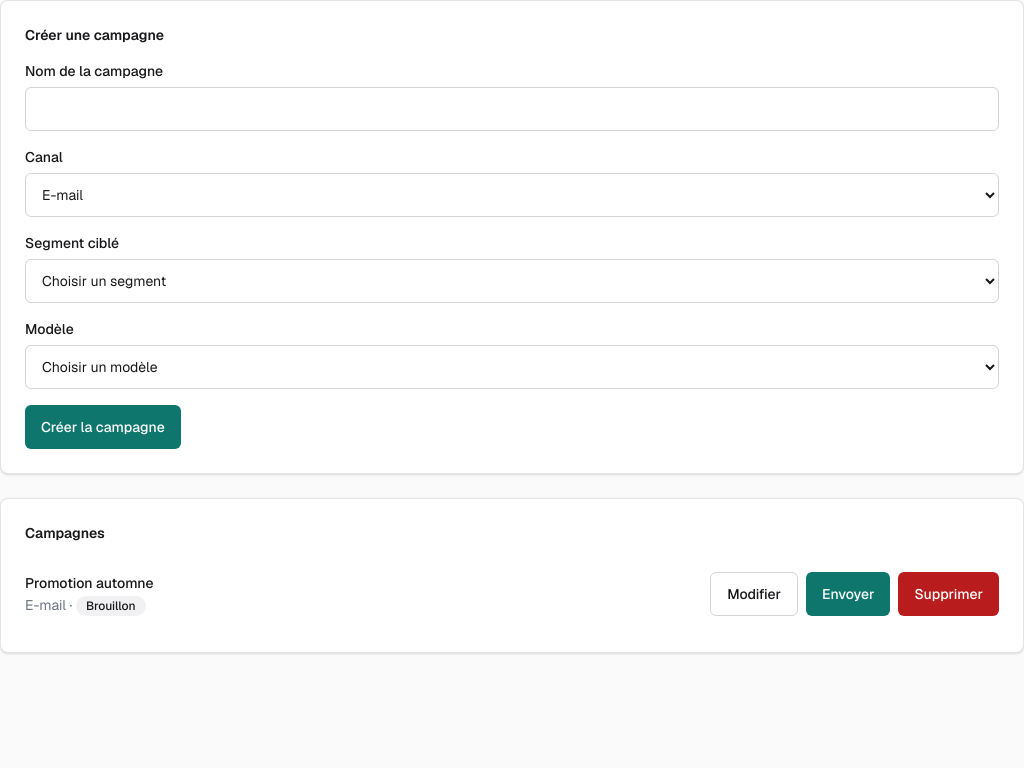
Scenario: CampaignsPage › supprime une campagne
Expected: the link "Promotion automne" is shown, 25,574 -> 154,592
Click the button "Supprimer". click: (949, 594)
box: 898,572 -> 999,616
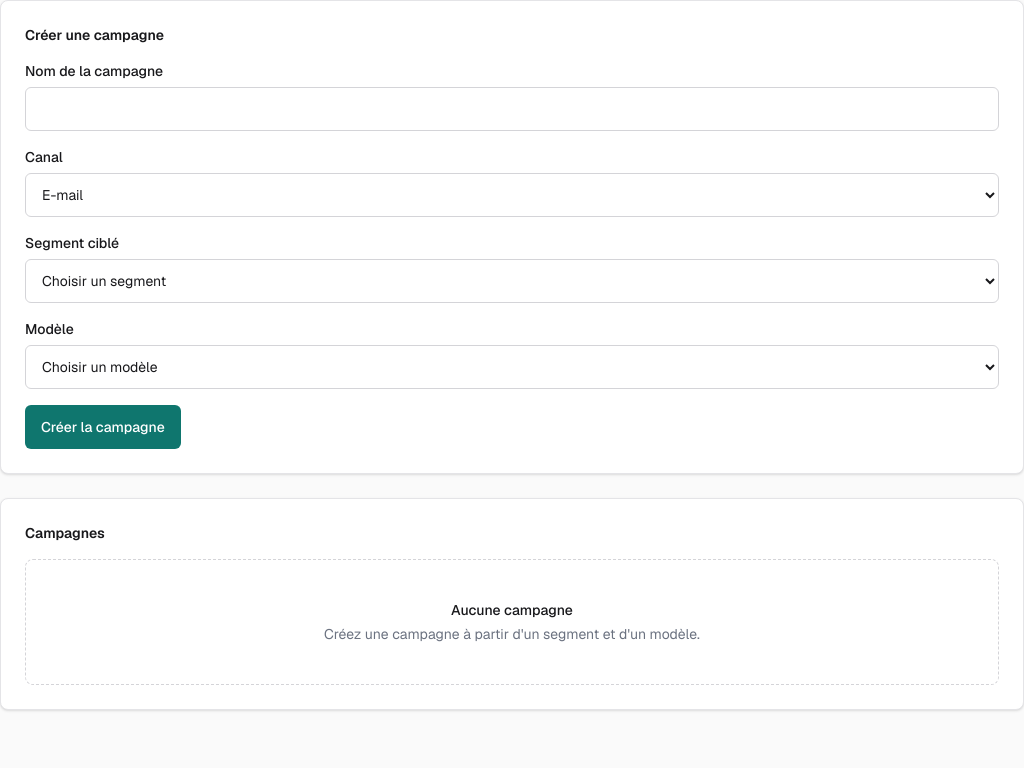
Expected: the link "Promotion automne" is gone
